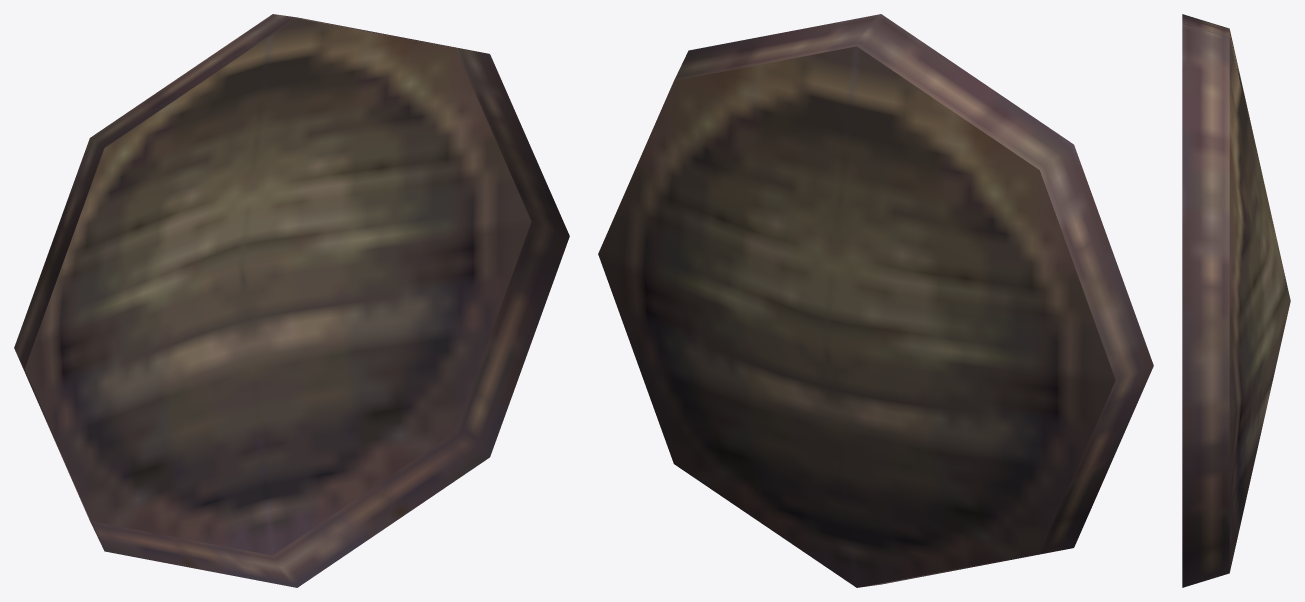
File: OZ_20_hy_shie02A.glb
The picture shows the model from 3 angles, left to right: view 1: azimuth 30°, elevation 25°; view 2: azimuth 150°, elevation 25°; view 3: azimuth 270°, elevation 25°; orthographic projection. The views are drawn at different scales.
Visible parts, largest first — view 1: OM_20_hy_shie02A; view 2: OM_20_hy_shie02A; view 3: OM_20_hy_shie02A.
Part boxes in pixels (box(x1,y1,x2,y2)): OM_20_hy_shie02A: box(14, 14, 569, 587); OM_20_hy_shie02A: box(598, 14, 1153, 587); OM_20_hy_shie02A: box(1182, 14, 1290, 587).
Bounding box in the file's own units: 0.396 × 0.396 × 0.0704.
Materials: 1 (1 with a texture image).
